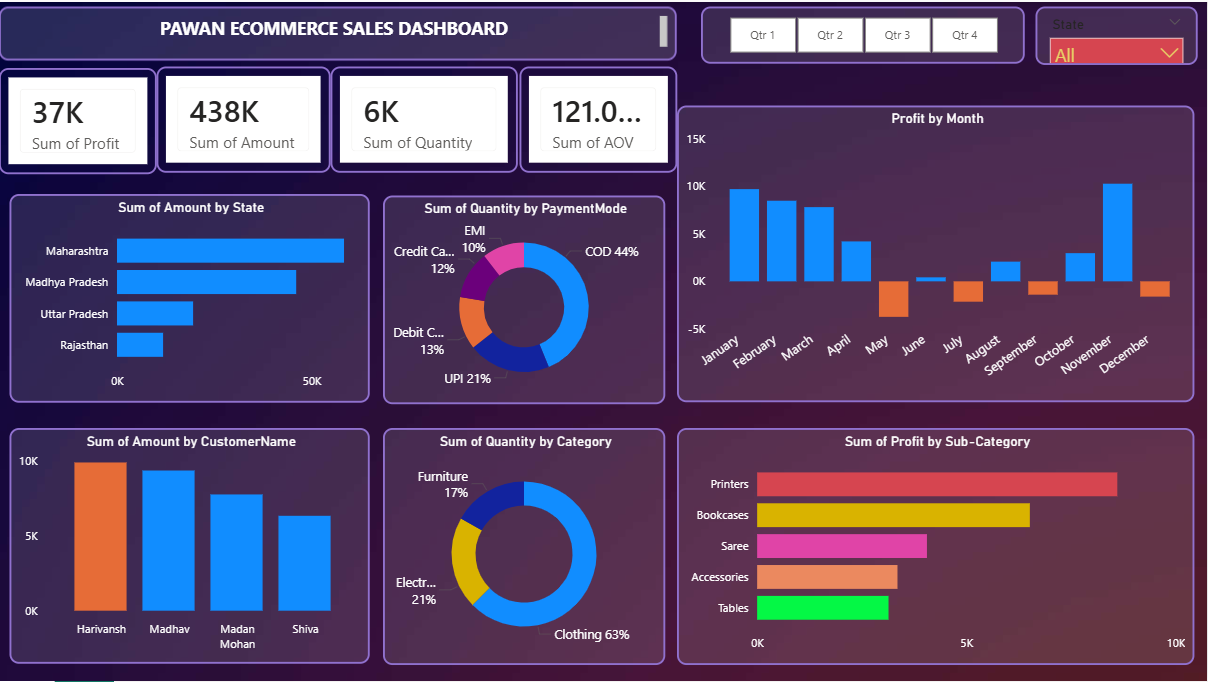

The dashboard page shown, as its layout file describes it:
{"tool":"powerbi","page":{"name":"Page 1","canvas":[1280,720],"ordinal":0},"visuals":[{"type":"textbox","box":[0,4.8,719,57.3],"z":0},{"type":"columnChart","title":"Profit by Month","fields":{"Category":["Orders.Order Date.Variation.Date Hierarchy.Month"],"Y":["Details.Profit"]},"box":[719,109.8,548.8,314.9],"z":1000},{"type":"barChart","fields":{"Category":["Details.Sub-Category"],"Y":["Details.Profit"]},"box":[719,451.7,548.8,251.3],"z":2000},{"type":"donutChart","fields":{"Category":["Details.Category"],"Y":["Details.Quantity"]},"box":[407.2,451.7,299,251.3],"z":3000},{"type":"donutChart","fields":{"Y":["Details.Quantity"],"Category":["Details.PaymentMode"]},"box":[407.2,205.2,299,221.1],"z":4000},{"type":"cardVisual","fields":{"Data":["Details.Amount"]},"box":[167,68.4,184.5,112.9],"z":5000},{"type":"cardVisual","fields":{"Data":["Details.Quantity"]},"box":[351.5,68.4,198.8,112.9],"z":6000},{"type":"cardVisual","fields":{"Data":["Details.Profit"]},"box":[0,70,167,112.9],"z":7000},{"type":"cardVisual","fields":{"Data":["Details.AOV"]},"box":[551.9,68.4,167,112.9],"z":8000},{"type":"barChart","fields":{"Y":["Details.Amount"],"Category":["Orders.State"]},"box":[11.1,203.6,381.7,221.1],"z":9000},{"type":"columnChart","fields":{"Y":["Details.Amount"],"Category":["Orders.CustomerName"]},"box":[11.1,451.7,381.7,249.7],"z":10000},{"type":"slicer","fields":{"Values":["Orders.Order Date.Variation.Date Hierarchy.Quarter"]},"box":[744.4,4.8,343.6,60.4],"z":11000},{"type":"slicer","fields":{"Values":["Orders.State"]},"box":[1094.3,2.9,172.9,62.9],"z":12000}]}

Visuals, with their boxes in screenshot pixels (x1, y1, x2, y2), scaled from the page's 1280x720 canvas onto the 1208x682 screenshot:
textbox: crop(0, 5, 679, 59)
"Profit by Month" columnChart: crop(679, 104, 1196, 402)
barChart - Details.Sub-Category x Details.Profit: crop(679, 428, 1196, 666)
donutChart - Details.Category x Details.Quantity: crop(384, 428, 666, 666)
donutChart - Details.Quantity x Details.PaymentMode: crop(384, 194, 666, 404)
cardVisual - Details.Amount: crop(158, 65, 332, 172)
cardVisual - Details.Quantity: crop(332, 65, 519, 172)
cardVisual - Details.Profit: crop(0, 66, 158, 173)
cardVisual - Details.AOV: crop(521, 65, 678, 172)
barChart - Details.Amount x Orders.State: crop(10, 193, 371, 402)
columnChart - Details.Amount x Orders.CustomerName: crop(10, 428, 371, 664)
slicer - Orders.Order Date.Variation.Date Hierarchy.Quarter: crop(703, 5, 1027, 62)
slicer - Orders.State: crop(1033, 3, 1196, 62)
